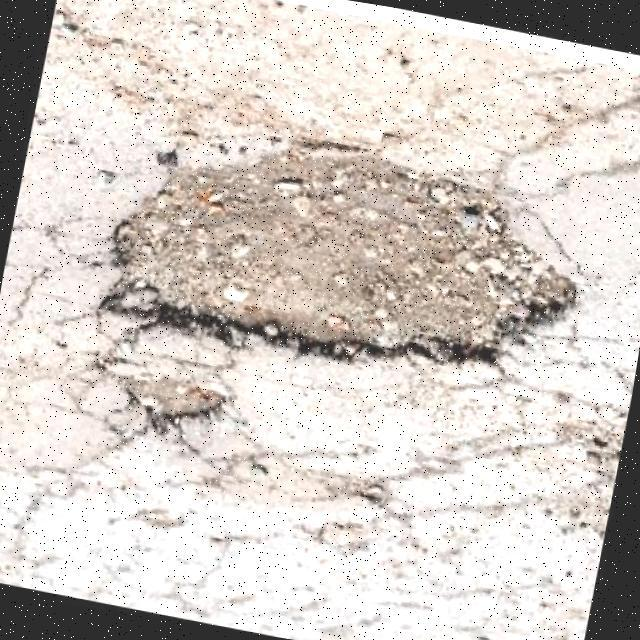Pothole: (99, 143, 578, 365), (119, 377, 225, 434)
